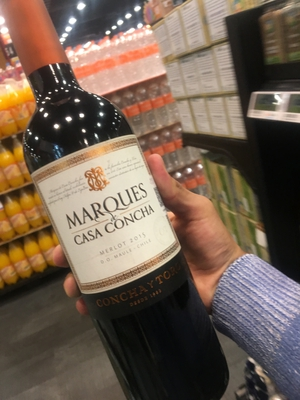marques de casa concha merlot: (20, 29, 224, 388)
